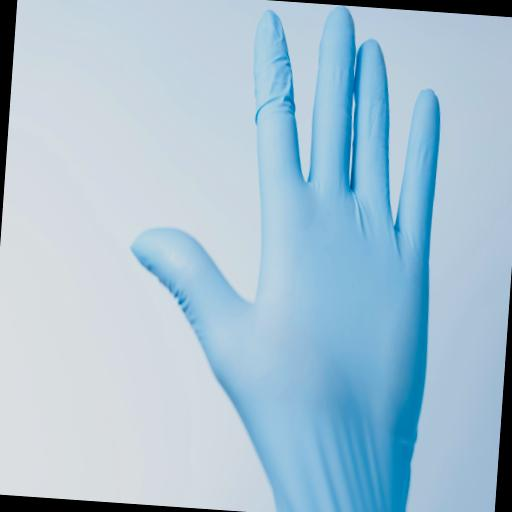Gloves: (109, 4, 475, 512)
